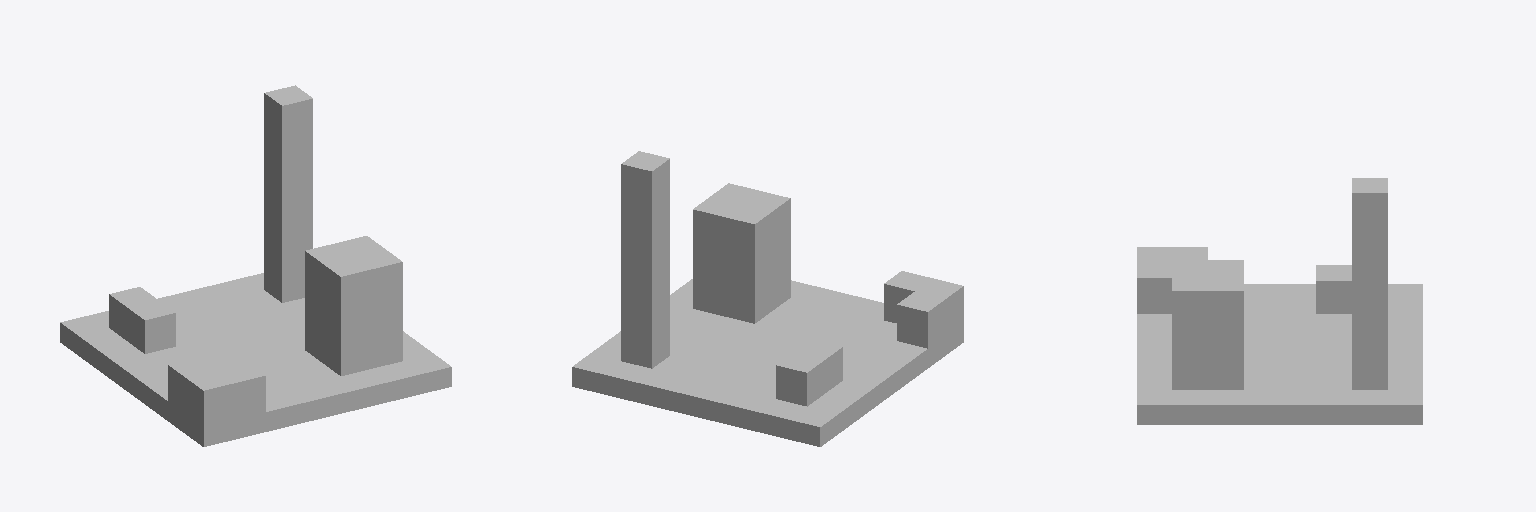
The model's file is sceneHP.obj.
3 views of the same model, side by side, from view 1: azimuth 30°, elevation 25°; view 2: azimuth 150°, elevation 25°; view 3: azimuth 270°, elevation 25° (orthographic).
Parts seen in each view (by area): view 1: Plane; view 2: Plane; view 3: Plane.
Boxes of the visible parts, x1,y1,x2,y2 form: Plane: [60, 85, 451, 446]; Plane: [572, 151, 963, 446]; Plane: [1137, 178, 1422, 424].
Size of the model in its own units: 2 by 1.67 by 2.